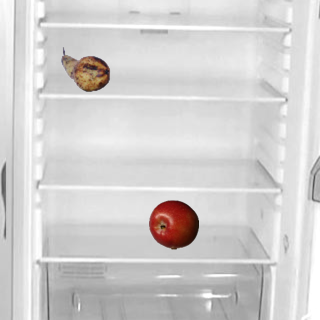Apple Braeburn: (148, 199, 198, 249)
Pear Abate: (60, 44, 110, 94)
